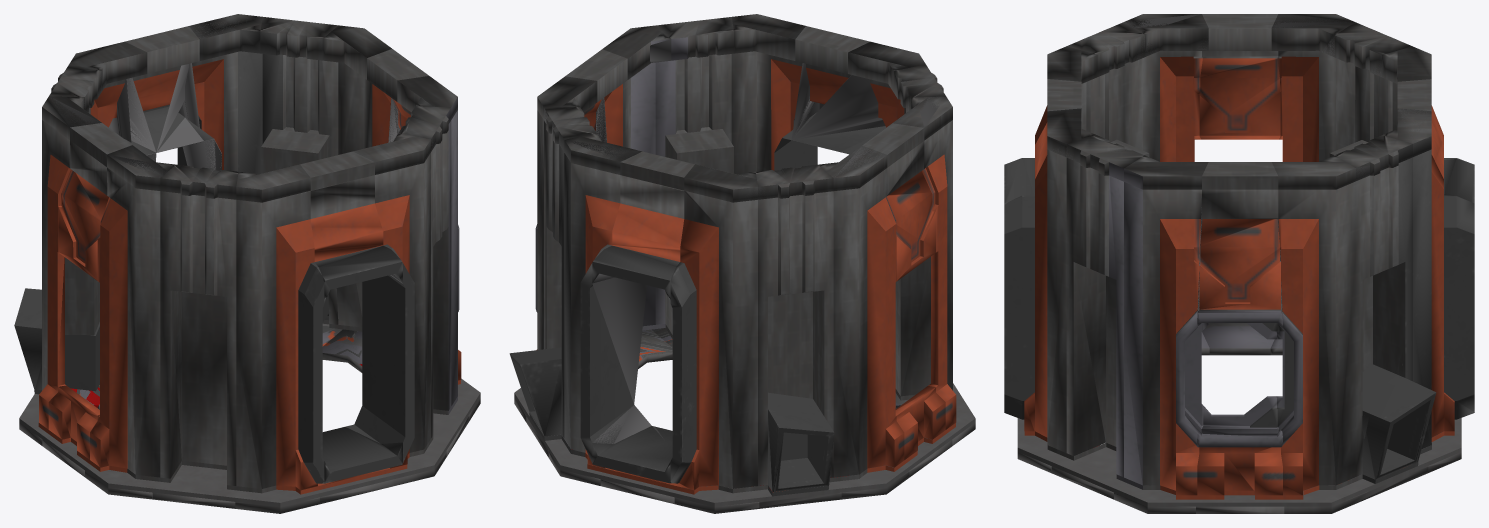
File: Engineering.fbx
The picture shows the model from 3 angles, left to right: view 1: azimuth 30°, elevation 25°; view 2: azimuth 150°, elevation 25°; view 3: azimuth 270°, elevation 25°; orthographic projection. The views are drawn at different scales.
Parts seen in each view (by area): view 1: 3_Engineering_seg15, 3_Engineering_seg14, 3_Engineering_seg13, 3_Engineering_seg01, 3_Engineering_seg16, 3_Engineering_seg06, 3_Engineering_seg07, 3_Engineering_seg12, 3_Engineering_seg11, 3_Engineering_seg02, 3_Engineering_seg05, 3_Engineering_seg10 (+4 smaller); view 2: 3_Engineering_seg09, 3_Engineering_seg10, 3_Engineering_seg11, 3_Engineering_seg07, 3_Engineering_seg08, 3_Engineering_seg02, 3_Engineering_seg01, 3_Engineering_seg06, 3_Engineering_seg12, 3_Engineering_seg13, 3_Engineering_seg16, 3_Engineering_seg03 (+4 smaller); view 3: 3_Engineering_seg03, 3_Engineering_seg05, 3_Engineering_seg04, 3_Engineering_seg06, 3_Engineering_seg02, 3_Engineering_seg01, 3_Engineering_seg07, 3_Engineering_seg12, 3_Engineering_seg11, 3_Engineering_seg13, 3_Engineering_seg14, 3_Engineering_seg10 (+4 smaller).
Boxes of the visible parts, <box> form: 3_Engineering_seg15: <box>235,164,324,513</box>; 3_Engineering_seg14: <box>152,164,238,508</box>; 3_Engineering_seg13: <box>85,145,175,499</box>; 3_Engineering_seg01: <box>345,133,446,485</box>; 3_Engineering_seg16: <box>300,151,402,504</box>; 3_Engineering_seg06: <box>260,17,342,346</box>; 3_Engineering_seg07: <box>177,14,262,173</box>; 3_Engineering_seg12: <box>42,123,131,476</box>; 3_Engineering_seg11: <box>19,96,101,445</box>; 3_Engineering_seg02: <box>399,106,468,456</box>; 3_Engineering_seg05: <box>322,25,399,372</box>; 3_Engineering_seg10: <box>14,64,101,409</box>; 3_Engineering_seg09: <box>670,164,759,513</box>; 3_Engineering_seg10: <box>756,164,841,508</box>; 3_Engineering_seg11: <box>818,145,909,499</box>; 3_Engineering_seg07: <box>548,133,651,485</box>; 3_Engineering_seg08: <box>592,151,694,503</box>; 3_Engineering_seg02: <box>652,17,733,347</box>; 3_Engineering_seg01: <box>731,14,817,173</box>; 3_Engineering_seg06: <box>509,106,596,457</box>; 3_Engineering_seg12: <box>862,123,952,477</box>; 3_Engineering_seg13: <box>892,96,975,445</box>; 3_Engineering_seg16: <box>791,26,885,152</box>; 3_Engineering_seg03: <box>595,25,672,368</box>; 3_Engineering_seg03: <box>1114,155,1208,513</box>; 3_Engineering_seg05: <box>1272,155,1365,513</box>; 3_Engineering_seg04: <box>1196,162,1284,513</box>; 3_Engineering_seg06: <box>1335,135,1436,499</box>; 3_Engineering_seg02: <box>1051,135,1144,499</box>; 3_Engineering_seg01: <box>1004,108,1097,473</box>; 3_Engineering_seg07: <box>1382,108,1474,472</box>; 3_Engineering_seg12: <box>1199,14,1280,355</box>; 3_Engineering_seg11: <box>1270,14,1355,355</box>; 3_Engineering_seg13: <box>1124,14,1209,355</box>; 3_Engineering_seg14: <box>1067,22,1149,156</box>; 3_Engineering_seg10: <box>1329,22,1412,156</box>.
Size of the model in its own units: 26.5 by 21.4 by 28.08.
